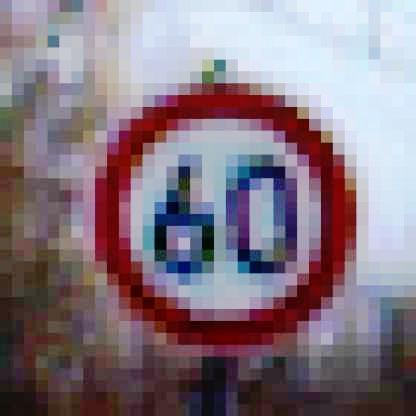Speed Limit -60-: (86, 79, 368, 354)
